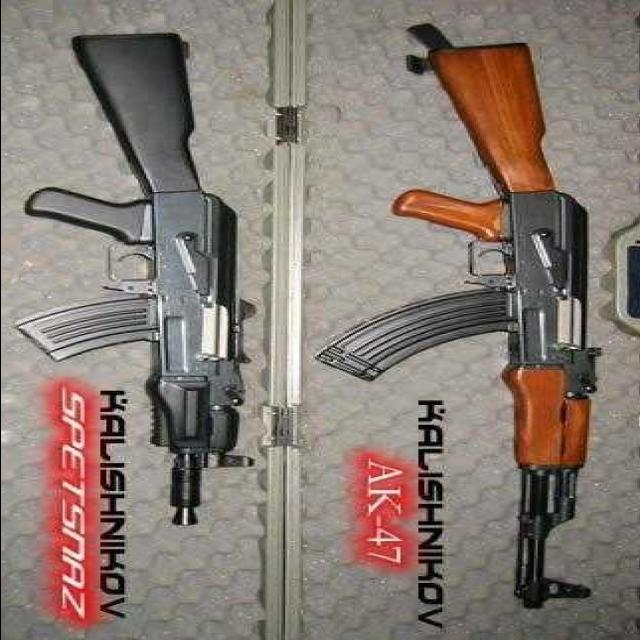heavyweapon: (331, 34, 627, 628), (31, 17, 271, 539)
